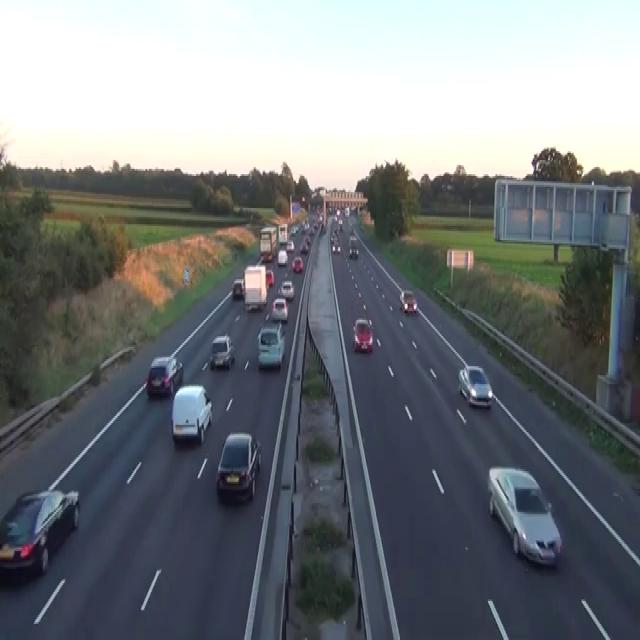Car: (487, 466, 563, 567), (0, 487, 79, 580), (215, 432, 261, 501), (171, 384, 212, 443), (457, 365, 493, 407), (146, 356, 183, 396), (256, 322, 285, 370), (210, 334, 234, 370), (352, 318, 373, 352), (399, 288, 417, 313), (271, 297, 288, 322), (278, 279, 294, 299), (330, 230, 341, 254), (232, 277, 244, 297), (291, 256, 303, 272), (277, 249, 287, 265), (266, 268, 274, 286), (330, 230, 339, 243), (348, 247, 358, 258), (261, 251, 272, 261), (331, 244, 341, 254), (286, 240, 294, 251), (300, 242, 308, 252), (233, 203, 240, 213), (328, 205, 334, 215), (290, 226, 297, 234), (344, 206, 349, 217), (349, 222, 354, 233), (305, 234, 311, 243), (338, 221, 343, 231), (350, 204, 356, 212), (318, 214, 323, 222), (336, 208, 340, 215)
Truck: (243, 265, 267, 311), (259, 226, 277, 261), (278, 222, 287, 244)
